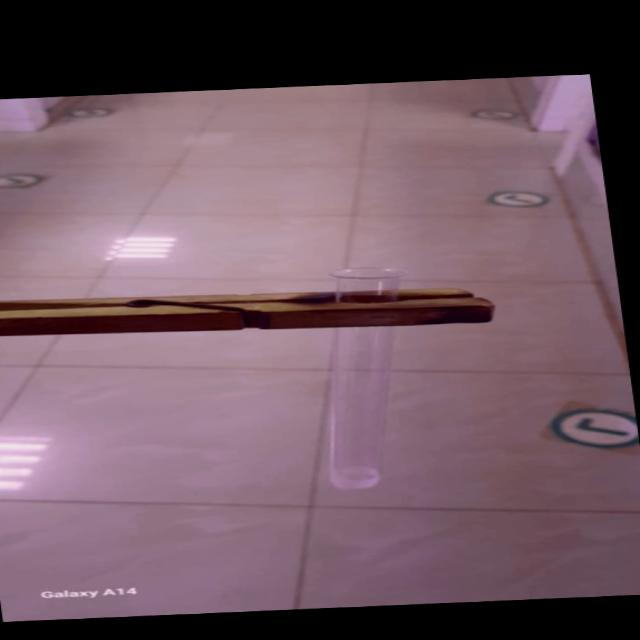Test Tube Holder: (0, 272, 515, 344)
